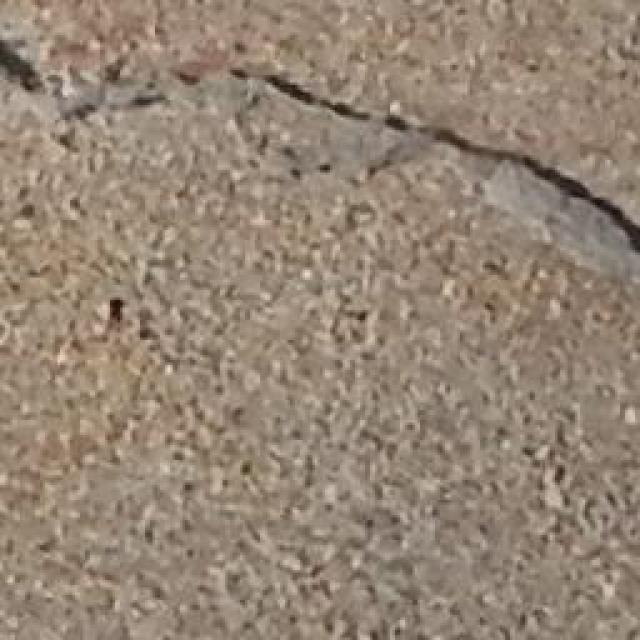concrete-crack: (0, 30, 640, 265)
